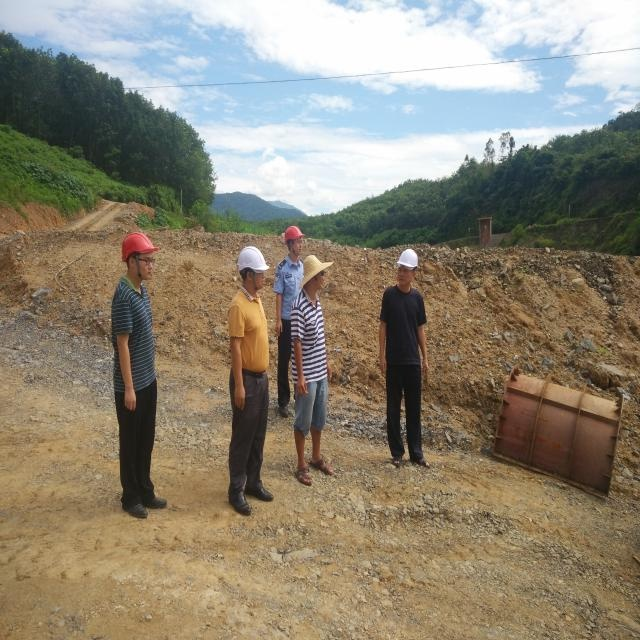Con_Casco: (236, 246, 269, 294), (121, 233, 156, 276)
Sin_Chaleco: (112, 282, 158, 393), (383, 287, 425, 370), (229, 297, 267, 379), (292, 298, 326, 381)
